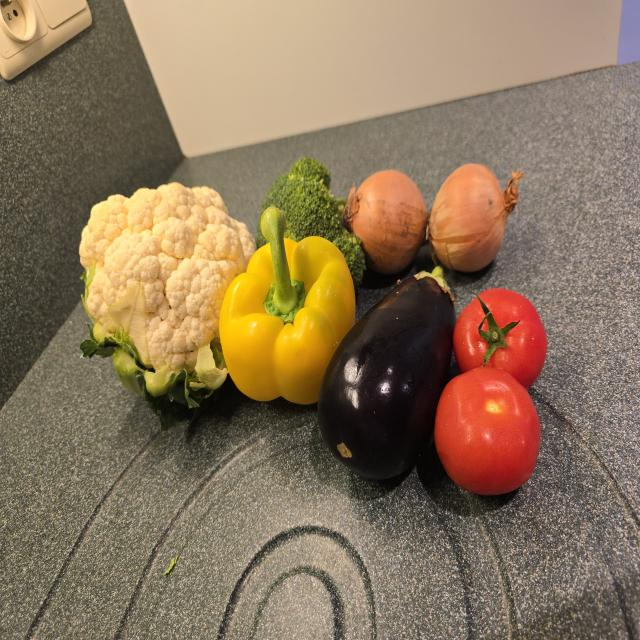Bell Pepper: (220, 207, 355, 403)
Broccoli: (261, 157, 365, 286)
Cauliflower: (80, 183, 255, 408)
Eggplant: (318, 263, 456, 480)
Onion: (428, 164, 523, 272), (343, 170, 428, 274)
Tomato: (435, 367, 540, 495), (454, 288, 547, 389)
